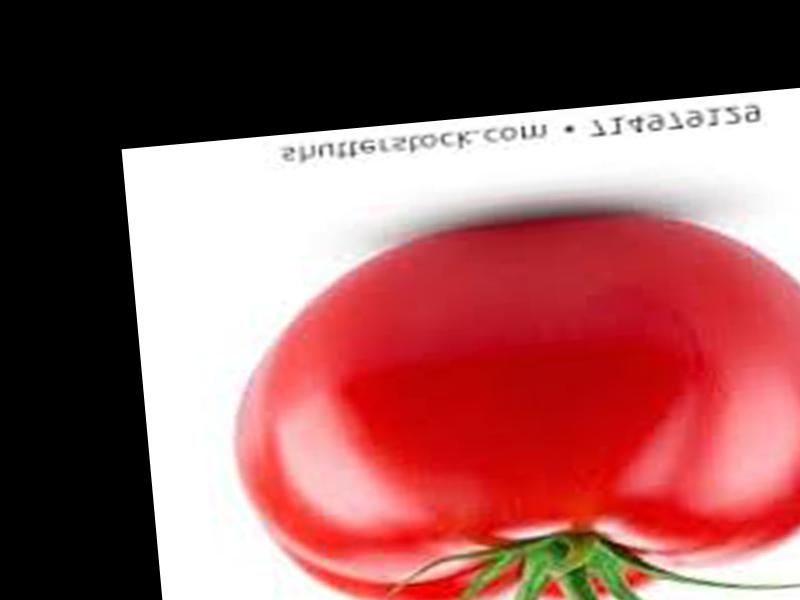Tomato: (215, 195, 800, 600)
